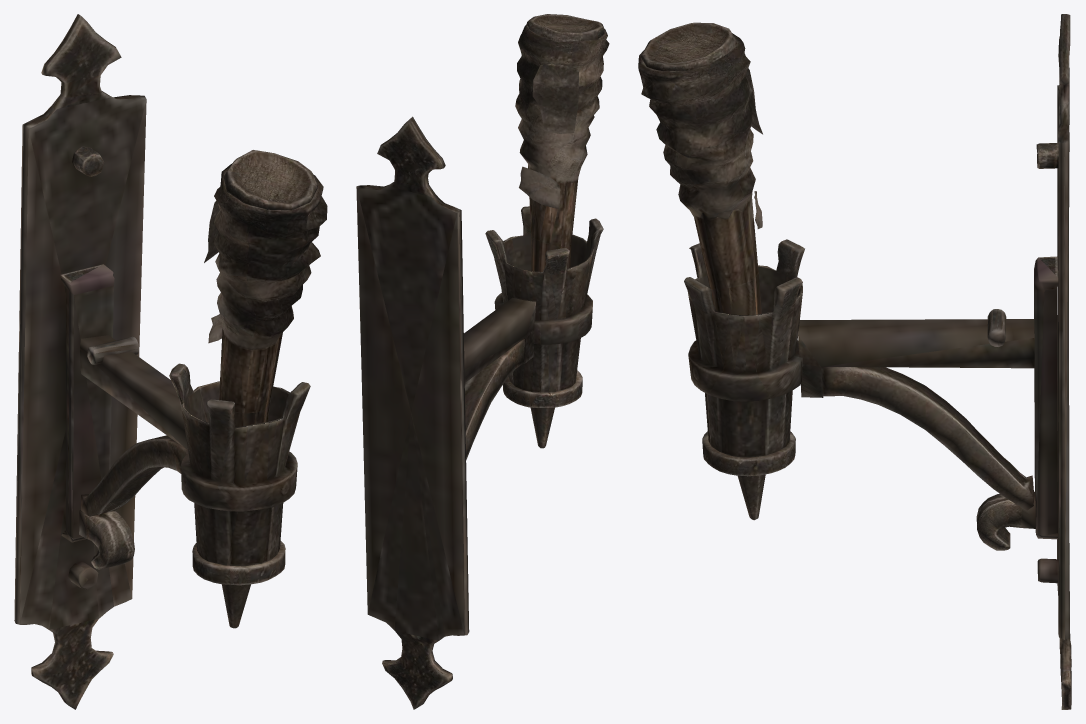
The model's file is d_torch_mounted.glb.
The picture shows the model from 3 angles, left to right: view 1: azimuth 30°, elevation 25°; view 2: azimuth 150°, elevation 25°; view 3: azimuth 270°, elevation 25°; orthographic projection. The views are drawn at different scales.
Parts seen in each view (by area): view 1: d_torch_mounted; view 2: d_torch_mounted; view 3: d_torch_mounted.
Boxes of the visible parts, x1,y1,x2,y2 form: d_torch_mounted: [14, 14, 327, 709]; d_torch_mounted: [356, 14, 609, 709]; d_torch_mounted: [638, 14, 1071, 709].
Bounding box in the file's own units: 0.2083 × 1.06 × 0.5973.
Materials: 1 (1 with a texture image).
